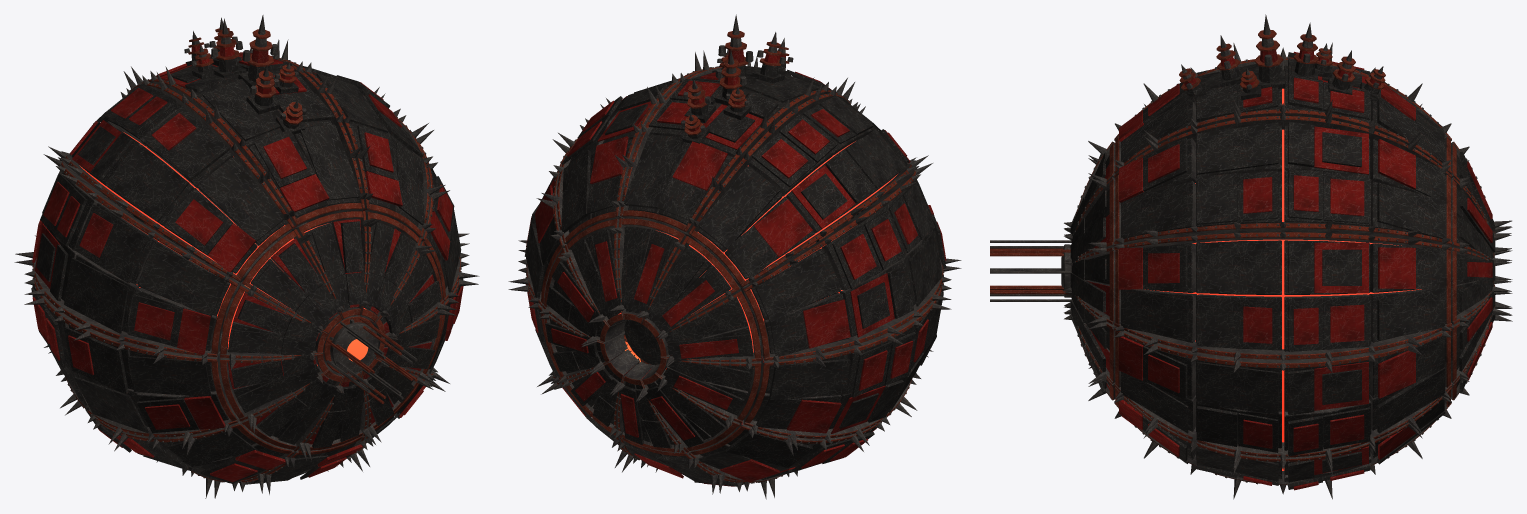
File: weltenkruemmer.krath.rig.klein.glb
The picture shows the model from 3 angles, left to right: view 1: azimuth 30°, elevation 25°; view 2: azimuth 150°, elevation 25°; view 3: azimuth 270°, elevation 25°; orthographic projection. The views are drawn at different scales.
Parts seen in each view (by area): view 1: platte_01, platte_02, platte_00, platte_03, platte_09, platte_04, tuerme_oben, klappe_vorn_02, klappe_vorn_01, klappe_vorn_00, klappe_vorn_03, klappe_vorn_09 (+12 smaller); view 2: platte_01, platte_02, platte_00, platte_03, platte_09, platte_04, klappe_hinten_02, klappe_hinten_01, tuerme_oben, klappe_hinten_00, klappe_hinten_03, klappe_hinten_09 (+10 smaller); view 3: platte_08, platte_09, platte_07, platte_00, platte_06, tuerme_oben, klappe_vorn_08, klappe_hinten_08, klappe_vorn_09, klappe_hinten_09, klappe_hinten_07, klappe_vorn_07 (+6 smaller).
Part boxes in pixels (x1,y1,x2,y2): platte_01: (48, 71, 294, 281); platte_02: (15, 154, 238, 358); platte_00: (126, 39, 367, 228); platte_03: (14, 259, 238, 448); platte_09: (272, 39, 445, 237); platte_04: (48, 351, 294, 498); tuerme_oben: (184, 15, 306, 134); klappe_vorn_02: (219, 278, 328, 364); klappe_vorn_01: (239, 229, 342, 333); klappe_vorn_00: (292, 211, 375, 319); klappe_vorn_03: (219, 351, 328, 429); klappe_vorn_09: (359, 211, 432, 322); platte_01: (689, 82, 928, 286); platte_02: (743, 163, 961, 361); platte_00: (617, 50, 852, 235); platte_03: (743, 266, 961, 450); platte_09: (541, 52, 750, 243); platte_04: (689, 356, 928, 497); klappe_hinten_02: (655, 284, 761, 365); klappe_hinten_01: (638, 236, 742, 337); tuerme_oben: (681, 14, 793, 143); klappe_hinten_00: (611, 218, 690, 323); klappe_hinten_03: (655, 355, 762, 424); klappe_hinten_09: (561, 218, 625, 326); platte_08: (1114, 232, 1451, 362); platte_09: (1114, 107, 1451, 244); platte_07: (1114, 327, 1451, 468); platte_00: (1114, 44, 1451, 173); platte_06: (1114, 387, 1451, 499); tuerme_oben: (1179, 14, 1385, 103); klappe_vorn_08: (1064, 247, 1115, 324); klappe_hinten_08: (1451, 247, 1511, 324); klappe_vorn_09: (1064, 177, 1118, 263); klappe_hinten_09: (1448, 177, 1511, 261); klappe_hinten_07: (1449, 286, 1512, 383); klappe_vorn_07: (1064, 291, 1117, 383).
Size of the model in its own units: 2.2 by 2.43 by 2.5.
6 materials, 4 textured.
